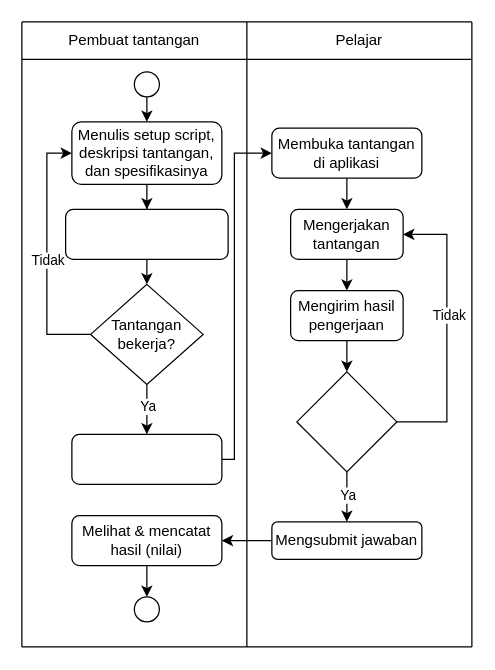
Image size: 495x670. Some labels were removed from this diagram. Each missing label, with the box of its shape:
Hasil benar?: (296, 371, 397, 472)
Mengemas & menguji tantangan: (64, 208, 228, 259)
Mengirim tantangan ke pelajar: (71, 433, 222, 484)
